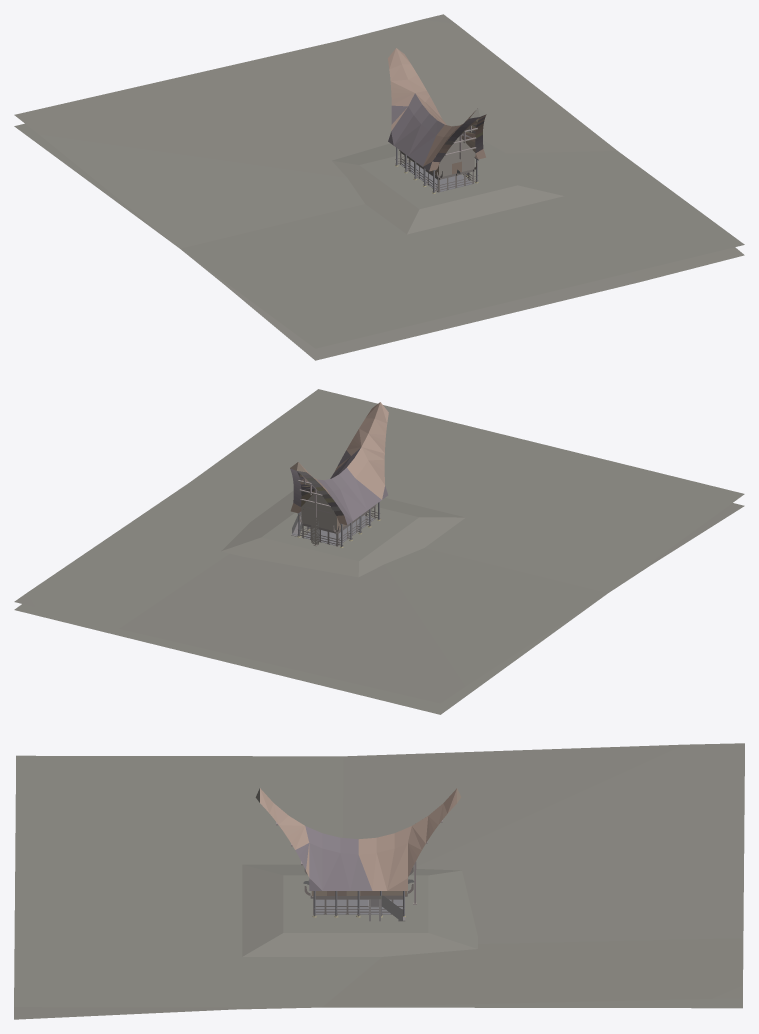
File: newtokonanoi.glb
3 views of the same model, one above another, from view 1: azimuth 30°, elevation 25°; view 2: azimuth 150°, elevation 25°; view 3: azimuth 270°, elevation 25° (orthographic). The views are drawn at different scales.
Parts seen in each view (by area): view 1: imagetostl_mesh; view 2: imagetostl_mesh; view 3: imagetostl_mesh.
Part boxes in pixels (box(x1,y1,x2,y2)): imagetostl_mesh: box(14, 14, 744, 360); imagetostl_mesh: box(14, 389, 744, 714); imagetostl_mesh: box(14, 743, 744, 1019).
Bounding box in the file's own units: 2862 × 725 × 3503.
